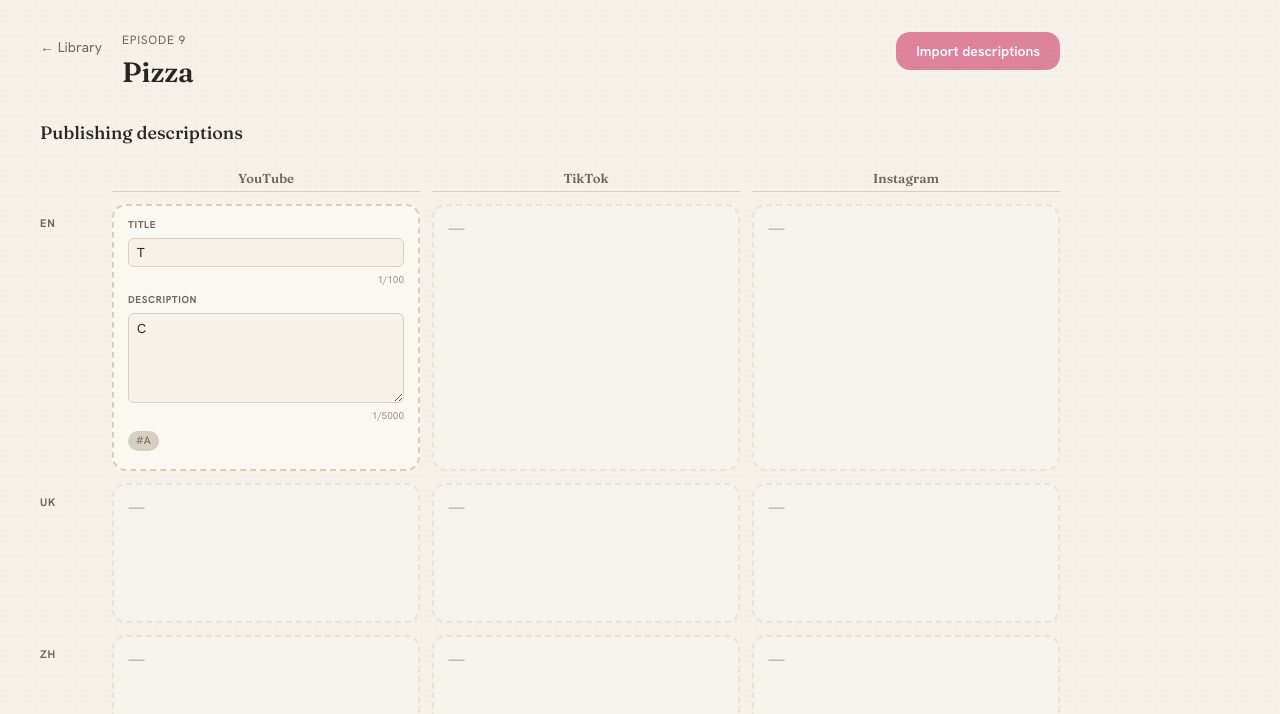
Scenario: Episode › shows import warnings in the result panel
The width and height of the screenshot is (1280, 714).
Expected: the heading "Pizza" is shown, x1=122 y1=53 x2=194 y2=92
Click the button "Import descriptions".
click(978, 51)  # box x1=896 y1=32 x2=1060 y2=70
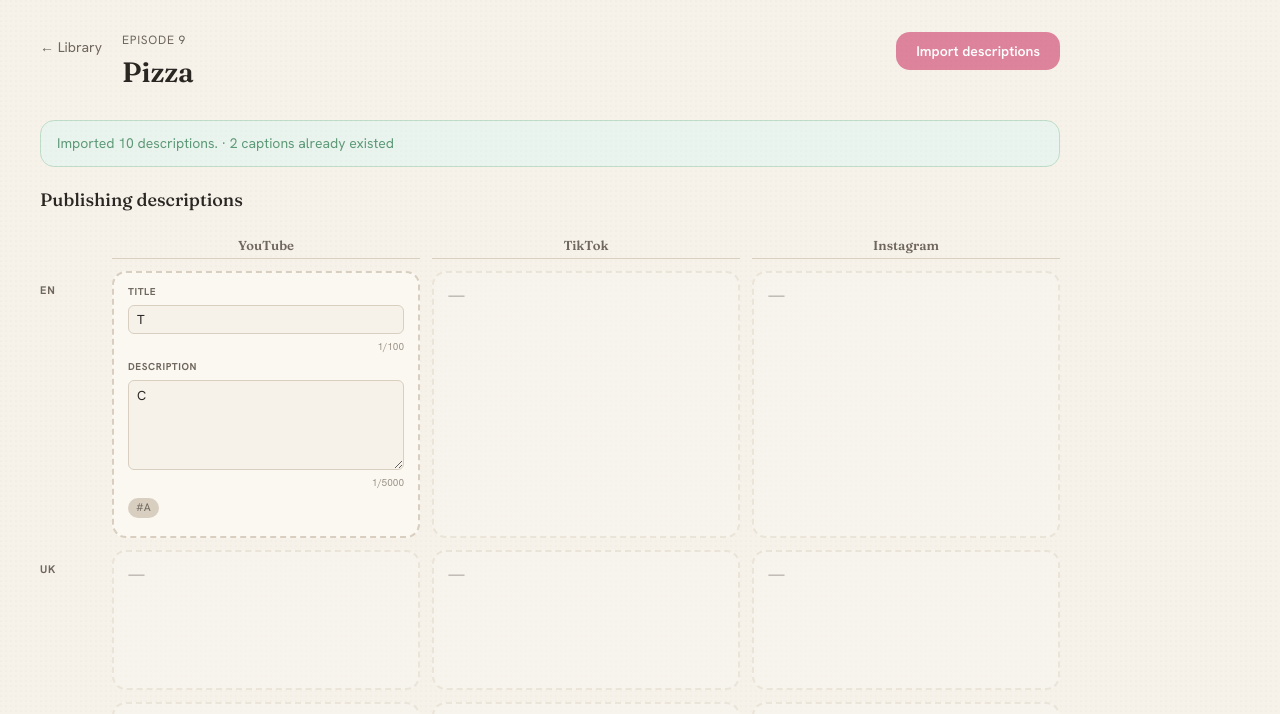
Now the text "· 2 captions already existed" is shown, box x1=218 y1=134 x2=394 y2=152
